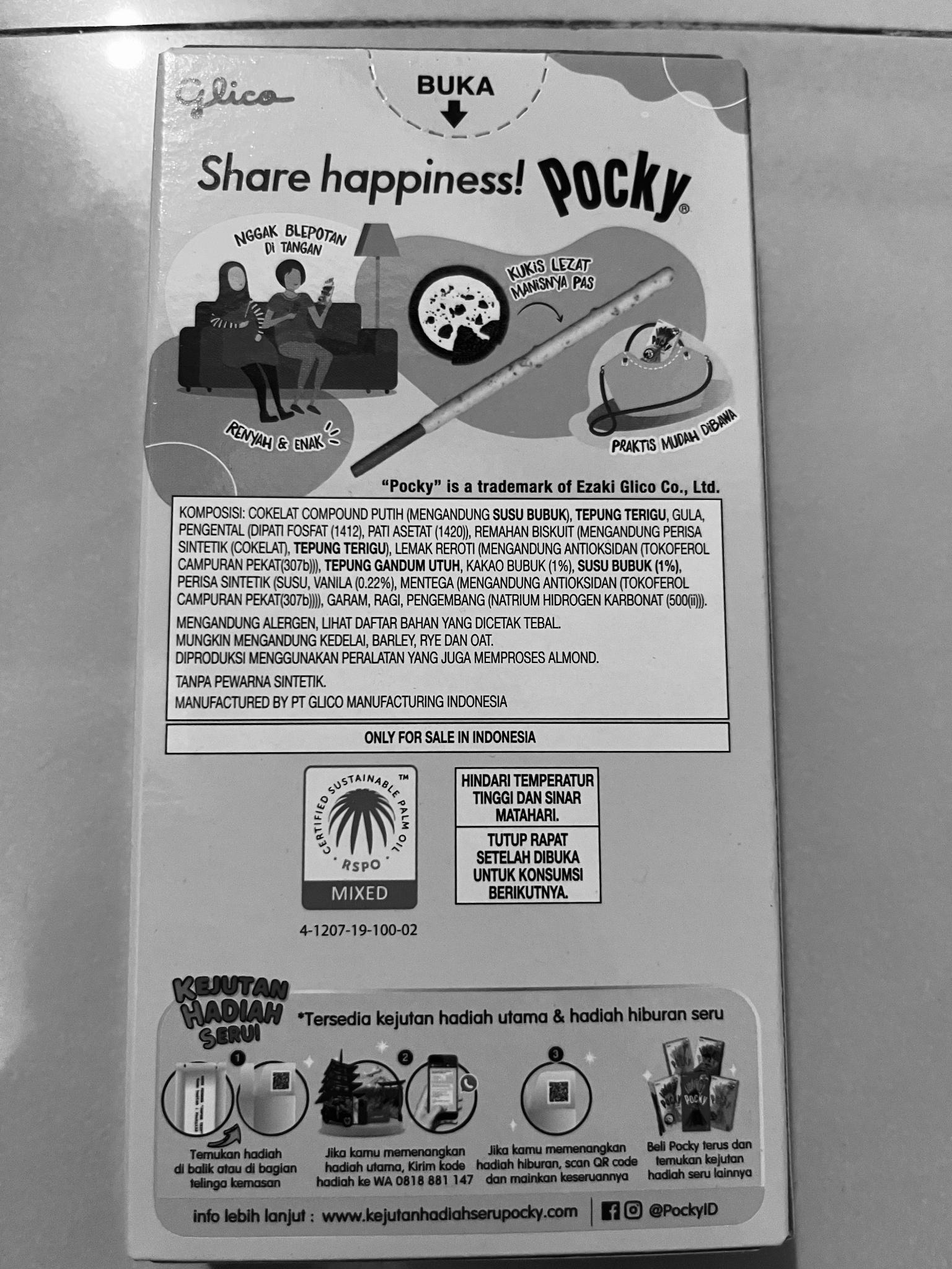Kertas: (120, 44, 787, 1265)
